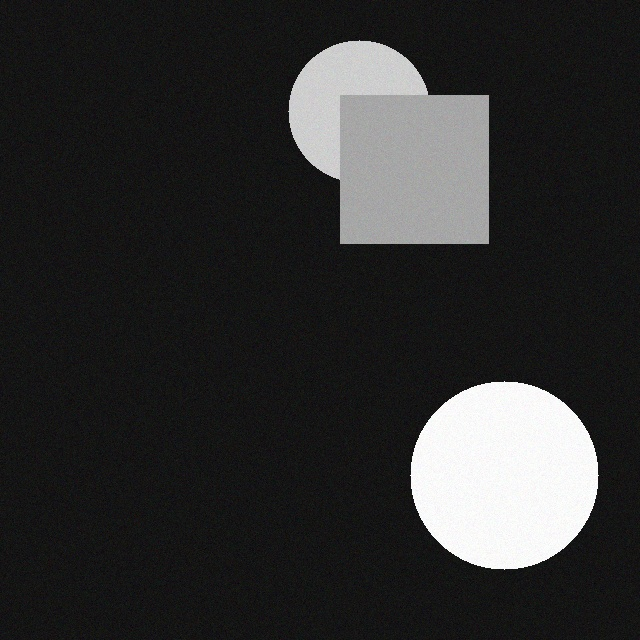circle: (415, 391, 603, 579), (293, 50, 435, 192)
square: (345, 105, 493, 253)
